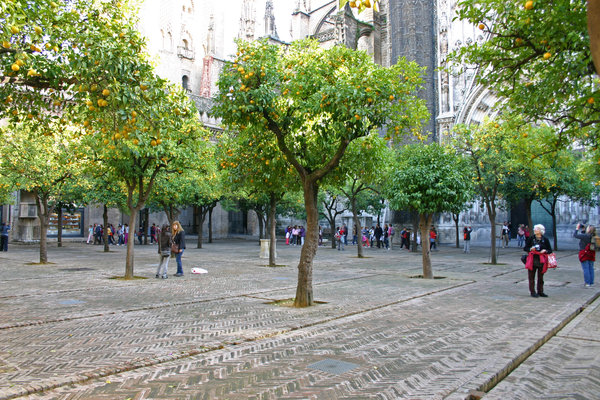tree: (210, 38, 428, 311), (83, 83, 206, 286), (386, 142, 470, 276)
